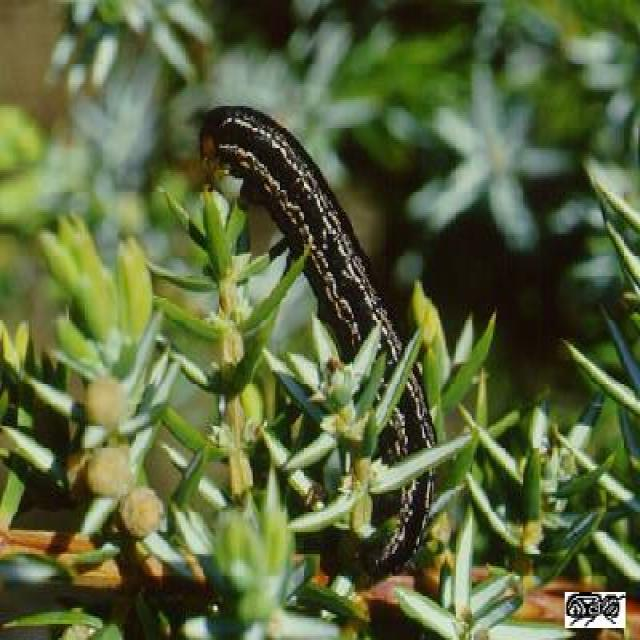Cutworm: (205, 100, 440, 574)
